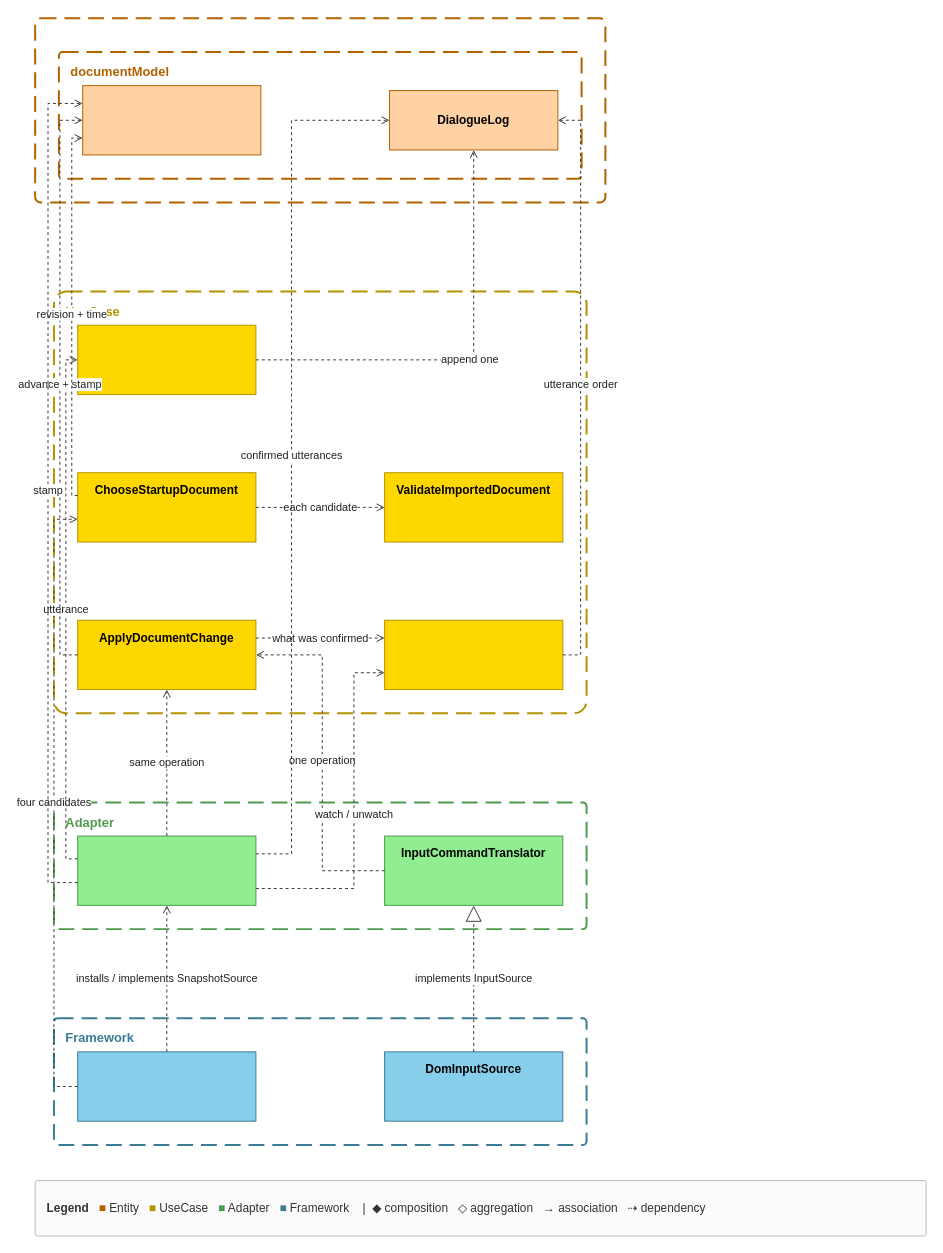
Some shapes in this 943 by 1253 pixel diagram are drawn without their labels. The box of each missing label's shape, as (x1, y1, x2, y2) in pixels:
AgentApiEndpoint: (77, 835, 256, 905)
DocumentStamp: (82, 85, 261, 155)
Entity: (34, 17, 606, 203)
NotifyChangeWatchers: (384, 619, 563, 690)
PostDialogueMessage: (77, 324, 256, 395)
SingleHtmlShell: (77, 1051, 256, 1121)
